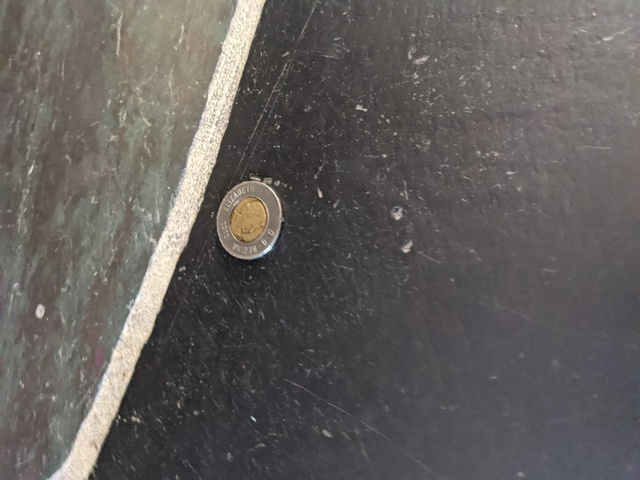twonie: (205, 177, 294, 269)
